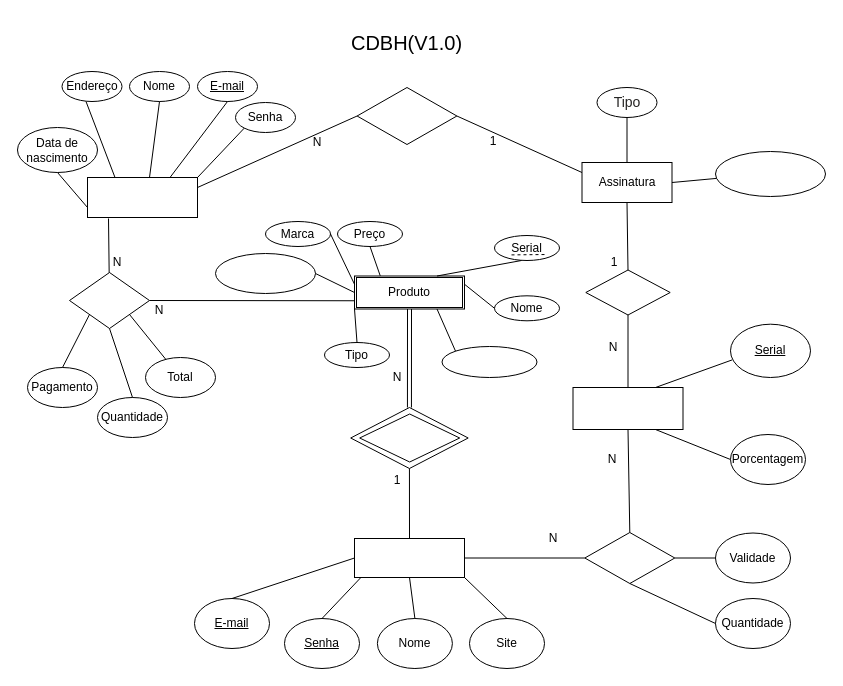
The diagram is 843 pixels wide and 686 high, and some of its shapes have lost their labels. The box of each missing label's shape, as (x1, y1, x2, y2) in pixels:
Anucia: (359, 413, 460, 462)
Apresenta: (585, 269, 670, 315)
Assinante: (86, 176, 198, 218)
Cupom: (572, 386, 683, 430)
Disponibilidade: (441, 346, 537, 378)
Disponibiliza: (584, 532, 675, 584)
Escolhe: (356, 86, 457, 144)
Ingrediente principal: (214, 252, 316, 294)
Loja: (354, 538, 464, 578)
Número de identificação: (714, 150, 826, 196)
Paga: (68, 272, 150, 328)
